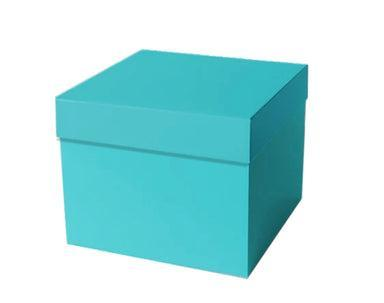box: (55, 48, 308, 277)
